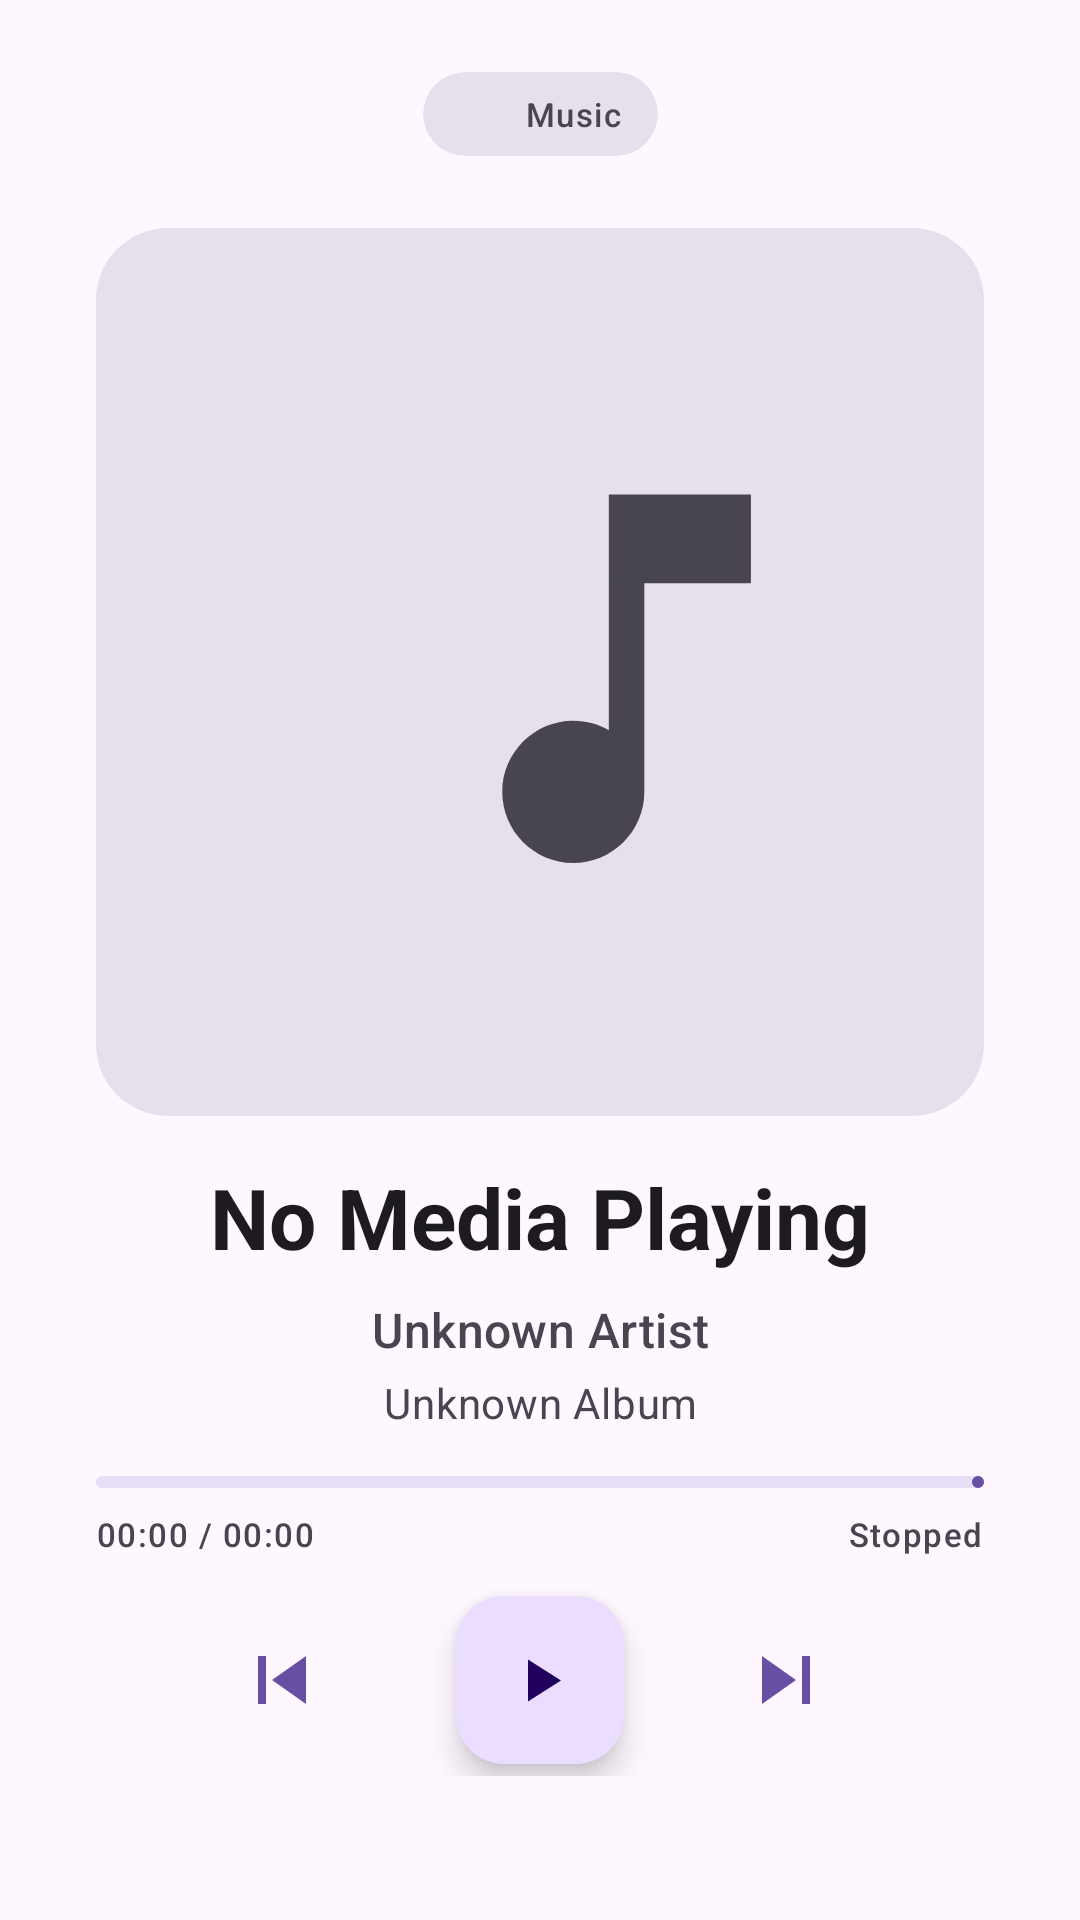

Screen size 1080w x 1920h. Icon name, then its center in pixels as (x,y):
play: (540,1680)
skip next: (786,1680)
skip previous: (282,1680)
